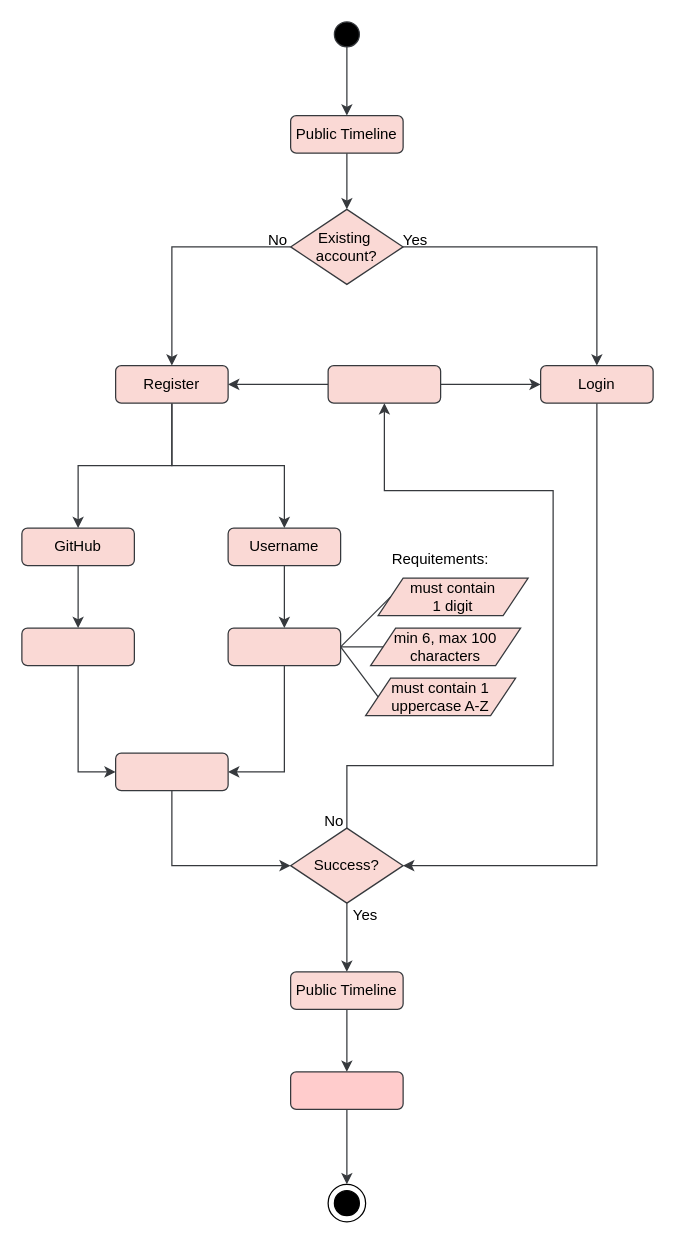
Image size: 675x1244. Some labels were removed from this diagram. The shapes that lost their labels are listed below. From the top down, each one's box as (x1, y1, x2, y2) in pixels, then its label:
(327, 364, 441, 403): Retry
(21, 627, 134, 666): Agree
(227, 627, 341, 666): Password
(114, 752, 228, 791): Done
(289, 1071, 403, 1109): Logout
